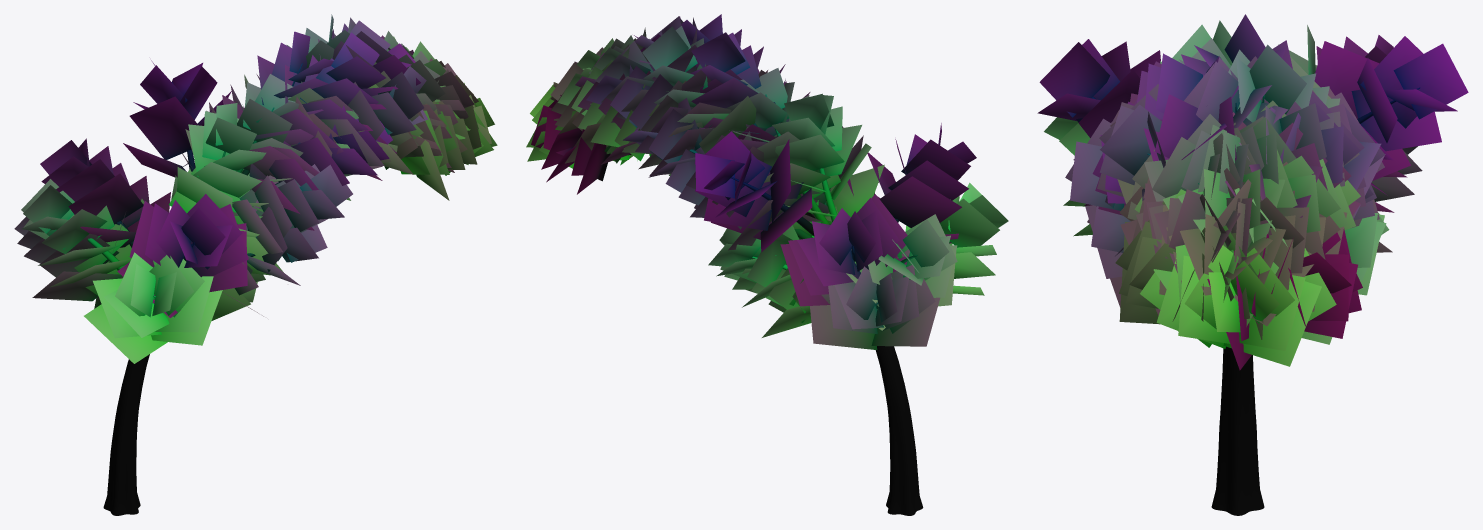
File: curvetree.fbx
The picture shows the model from 3 angles, left to right: view 1: azimuth 30°, elevation 25°; view 2: azimuth 150°, elevation 25°; view 3: azimuth 270°, elevation 25°; orthographic projection. The views are drawn at different scales.
Parts seen in each view (by area): view 1: Tree_1, Tree_0; view 2: Tree_1, Tree_0; view 3: Tree_1, Tree_0.
Part boxes in pixels (x1,y1,x2,y2): Tree_1: (14,14,497,363); Tree_0: (87,63,302,515); Tree_1: (526,14,1008,349); Tree_0: (628,94,949,515); Tree_1: (1037,14,1468,370); Tree_0: (1092,87,1420,515).
Bounding box in the file's own units: 353 × 333 × 213.
